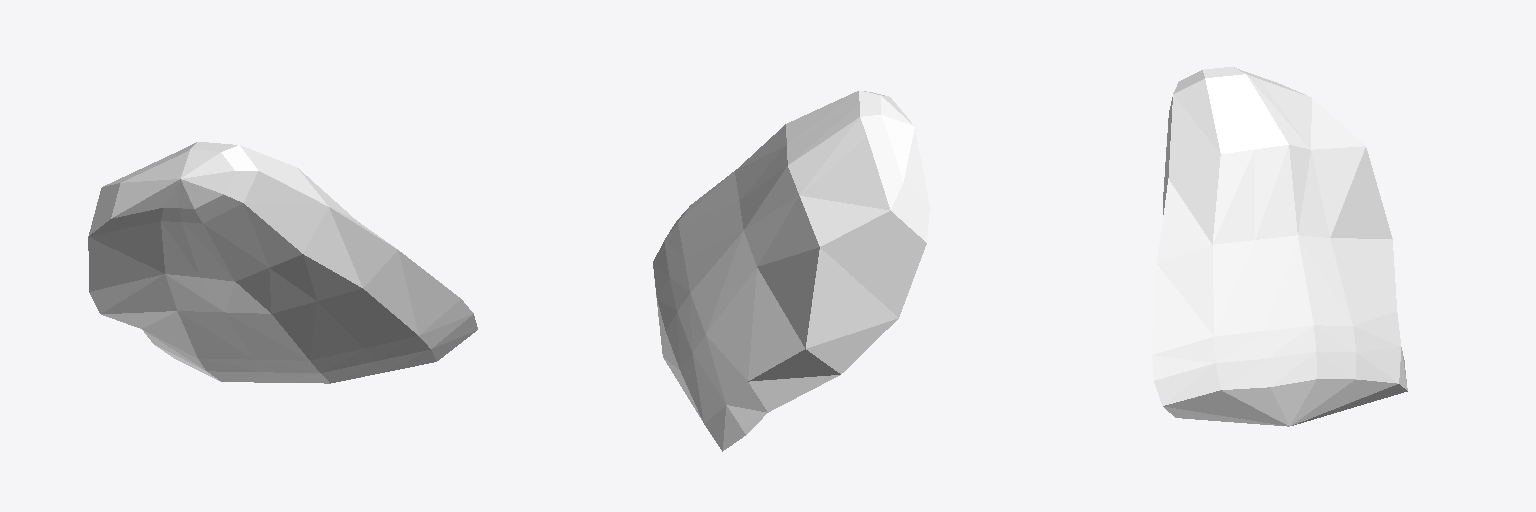
The model's file is HandR.obj.
The picture shows the model from 3 angles: view 1: azimuth 30°, elevation 25°; view 2: azimuth 150°, elevation 25°; view 3: azimuth 270°, elevation 25°; orthographic projection.
Parts seen in each view (by area): view 1: Handr1; view 2: Handr1; view 3: Handr1.
Part boxes in pixels (bbox=[...]): Handr1: bbox=[88, 142, 477, 383]; Handr1: bbox=[653, 90, 929, 451]; Handr1: bbox=[1152, 67, 1407, 426].
Bounding box in the file's own units: 1.63 × 1.45 × 1.11.